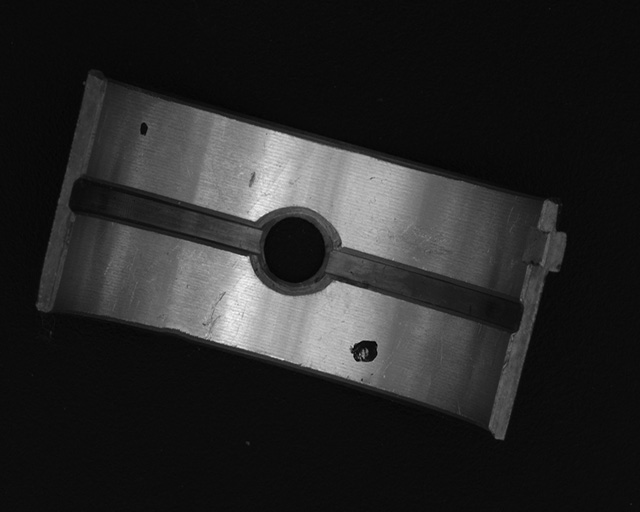blot: (348, 339, 379, 362), (138, 121, 149, 137)
bruise: (248, 171, 256, 189)
gap: (330, 246, 521, 330), (72, 178, 260, 252)
hole: (252, 210, 338, 291)
nick: (202, 290, 227, 340)
scratch: (385, 219, 460, 263)
